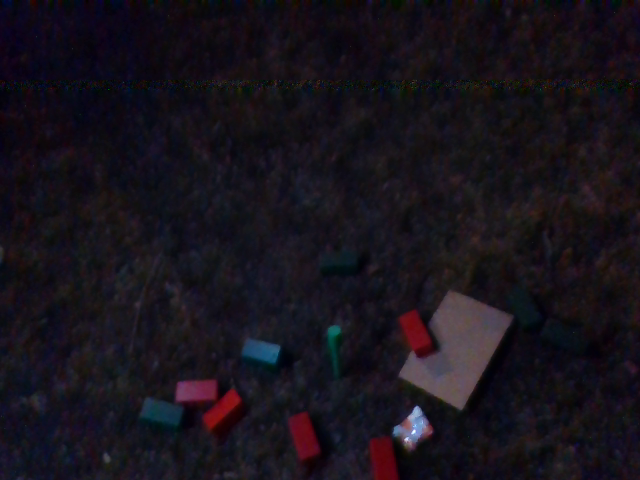Probe: (323, 323, 357, 387)
